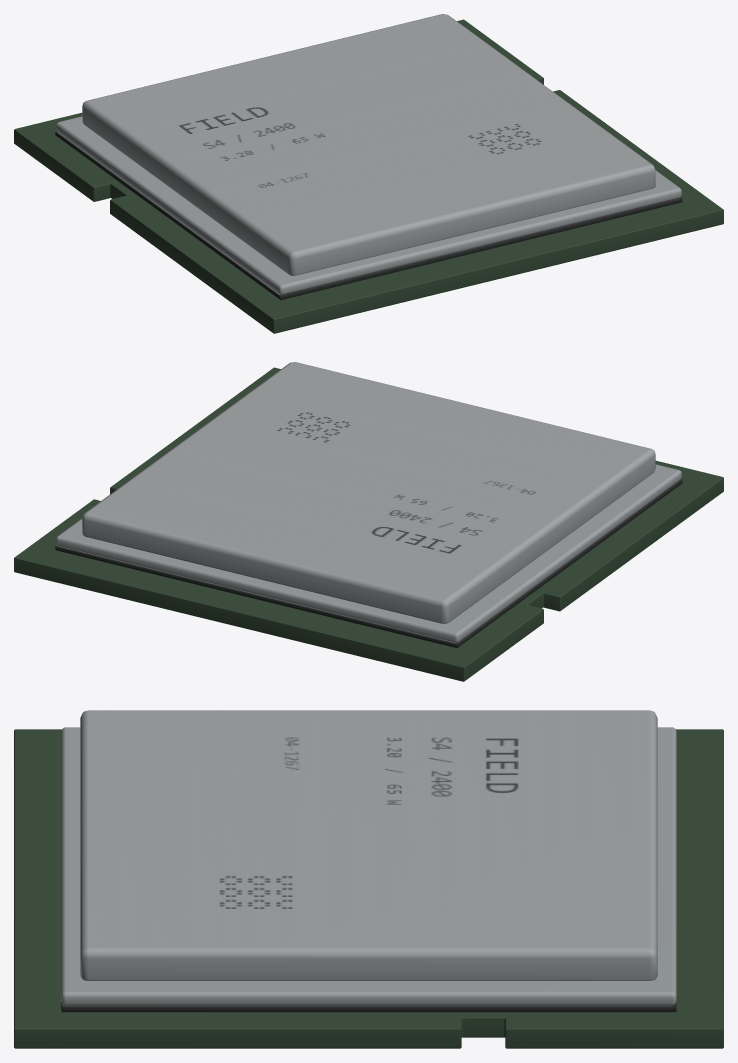
File: PC_CPU_LOD0.fbx
The picture shows the model from 3 angles, top to bottom: view 1: azimuth 30°, elevation 25°; view 2: azimuth 150°, elevation 25°; view 3: azimuth 270°, elevation 25°; orthographic projection. The views are drawn at different scales.
Parts seen in each view (by area): view 1: Body_LOD0; view 2: Body_LOD0; view 3: Body_LOD0.
Boxes of the visible parts, x1,y1,x2,y2 form: Body_LOD0: [14, 14, 723, 333]; Body_LOD0: [14, 362, 723, 681]; Body_LOD0: [14, 710, 723, 1048].
Bounding box in the file's own units: 0.0375 × 0.0043 × 0.0375.
